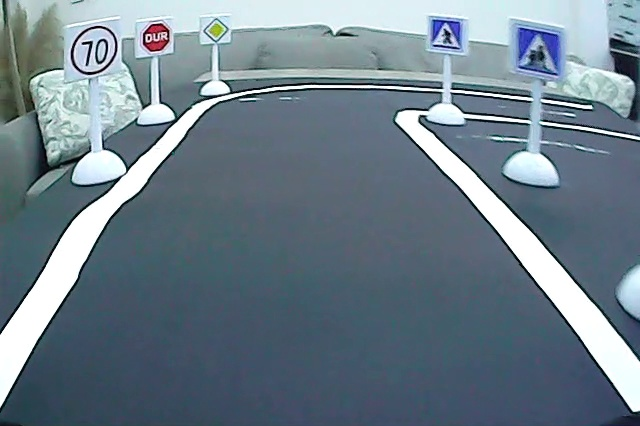pedestrian crossing: (428, 16, 465, 51)
school crossing: (513, 21, 562, 80)
speed limit 70: (67, 23, 120, 79)
stop sign: (139, 19, 172, 54)
